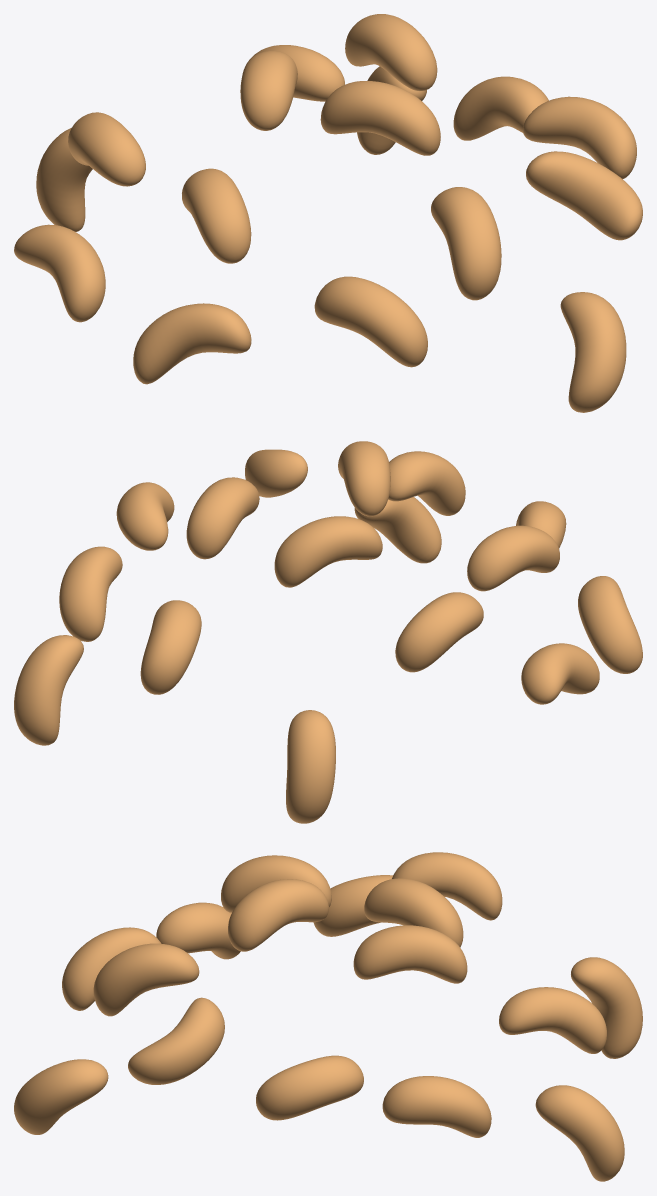
The model's file is peanuts.gltf.
3 views of the same model, one above another, from view 1: azimuth 30°, elevation 25°; view 2: azimuth 150°, elevation 25°; view 3: azimuth 270°, elevation 25° (orthographic). The views are drawn at different scales.
Parts seen in each view (by area): view 1: Cube.006, Cube.010, Cube.009, Cube.004, Cube.015, Cube.011, Cube.001, Cube.003, Cube.008, Cube.014, Cube.002, Cube (+4 smaller); view 2: Cube.007, Cube.005, Cube.012, Cube, Cube.015, Cube.002, Cube.014, Cube.013, Cube.008, Cube.001, Cube.003, Cube.004 (+4 smaller); view 3: Cube.008, Cube.007, Cube.002, Cube.011, Cube.006, Cube.013, Cube.001, Cube.009, Cube.004, Cube.005, Cube, Cube.012 (+4 smaller).
Boxes of the visible parts, box(x1,y1,x2,y2) form: Cube.006: box(526, 151, 642, 240); Cube.010: box(314, 276, 427, 367); Cube.009: box(320, 81, 440, 155); Cube.004: box(560, 292, 626, 412); Cube.015: box(133, 303, 251, 384); Cube.011: box(523, 96, 636, 178); Cube.001: box(431, 187, 501, 300); Cube.003: box(14, 224, 105, 322); Cube.008: box(345, 14, 437, 91); Cube.014: box(182, 168, 251, 263); Cube.002: box(453, 76, 548, 140); Cube: box(68, 112, 145, 186); Cube.007: box(14, 635, 83, 745); Cube.005: box(286, 710, 335, 823); Cube.012: box(274, 516, 382, 587); Cube: box(395, 592, 483, 672); Cube.015: box(578, 576, 642, 673); Cube.002: box(59, 546, 122, 641); Cube.014: box(467, 525, 559, 591); Cube.013: box(140, 600, 201, 694); Cube.008: box(186, 477, 259, 559); Cube.001: box(388, 451, 465, 515); Cube.003: box(521, 643, 599, 704); Cube.004: box(354, 497, 441, 563); Cube.008: box(353, 925, 467, 983); Cube.007: box(535, 1085, 624, 1181); Cube.002: box(382, 1076, 491, 1137); Cube.011: box(256, 1055, 363, 1120); Cube.006: box(128, 997, 224, 1084); Cube.013: box(499, 987, 606, 1053); Cube.001: box(93, 943, 199, 1016); Cube.009: box(228, 879, 328, 951); Cube.004: box(14, 1059, 108, 1134); Cube.005: box(571, 957, 642, 1058); Cube: box(392, 852, 502, 920); Cube.012: box(364, 878, 463, 947).
Bounding box in the file's own units: 0.9884 × 0.4354 × 1.1.
